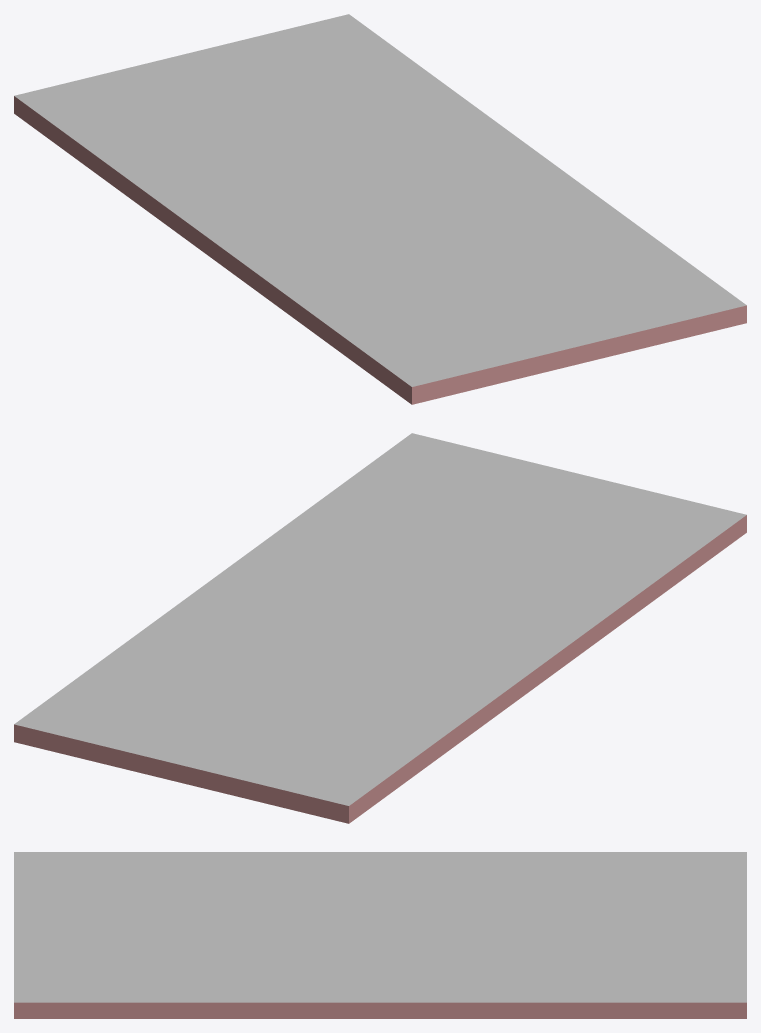
Rendered from 21a96bfe-1d2f-4913-a727-8c72a07cf272-003cfb09.glb.
3 views of the same model, one above another, from view 1: azimuth 30°, elevation 25°; view 2: azimuth 150°, elevation 25°; view 3: azimuth 270°, elevation 25° (orthographic). The views are drawn at different scales.
Visible parts, largest first — view 1: sopnet4; view 2: sopnet4; view 3: sopnet4.
Part boxes in pixels (left/top/right/bottom): sopnet4: left=14, top=14, right=746, bottom=404; sopnet4: left=14, top=433, right=746, bottom=823; sopnet4: left=14, top=852, right=746, bottom=1018.
Bounding box in the file's own units: 3.57 × 0.181 × 7.36.
